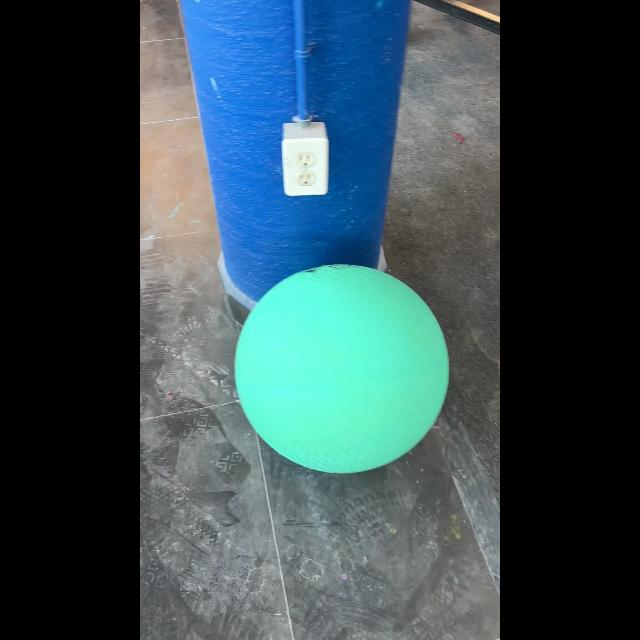ALGAE: (234, 262, 451, 474)
